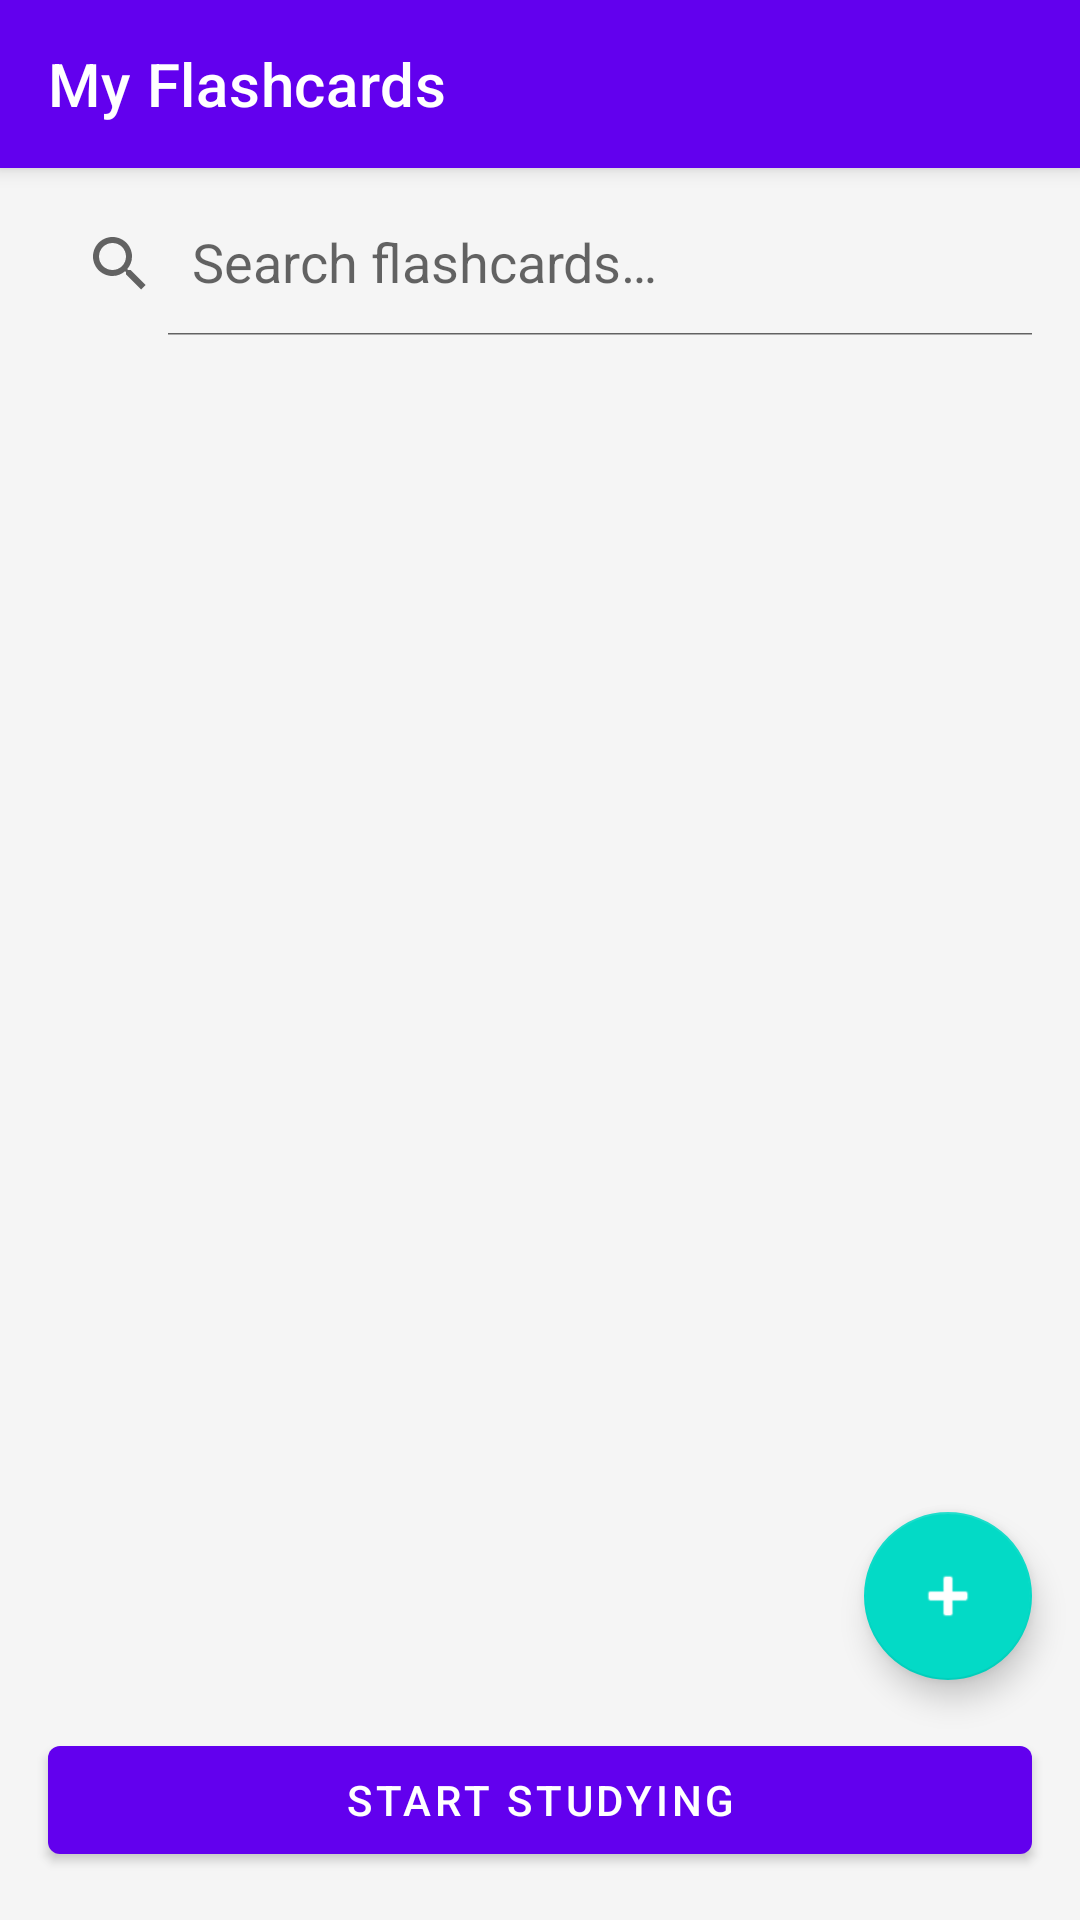

Named icons in this screenshot (1080 x 1920) and their bounding boxes, [x1, y1, x2, y2]:
Add Flashcard: [864, 1512, 1032, 1680]
